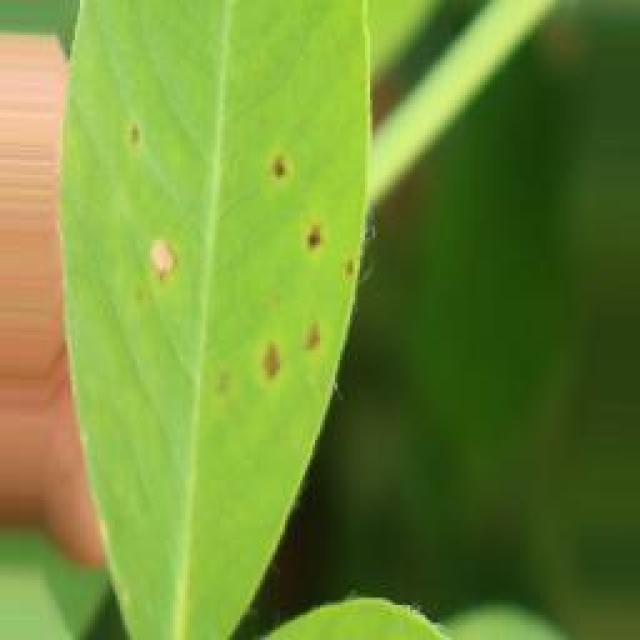Sigatoka: (208, 297, 328, 385), (274, 213, 365, 290), (101, 101, 172, 164), (124, 222, 182, 288), (255, 142, 300, 183)
